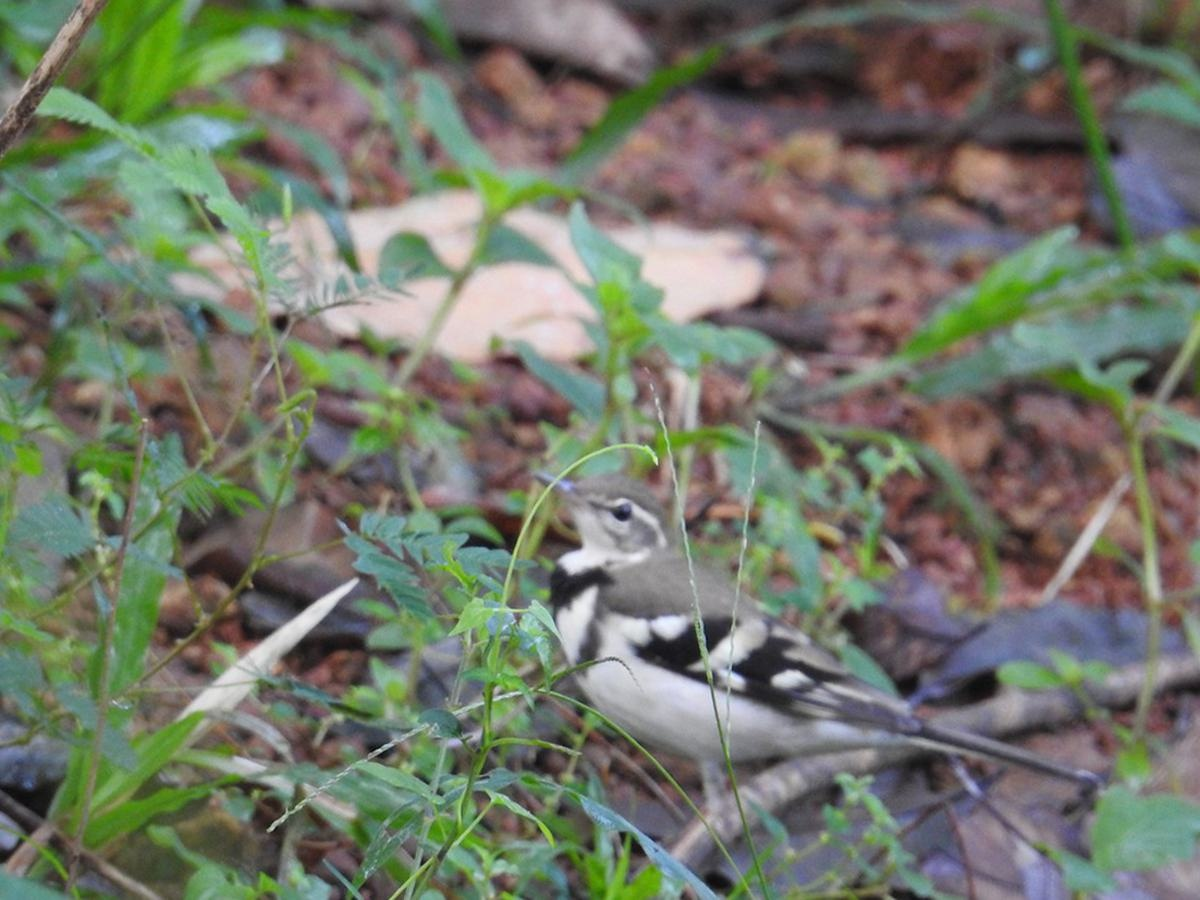wagtail: (539, 436, 927, 812)
